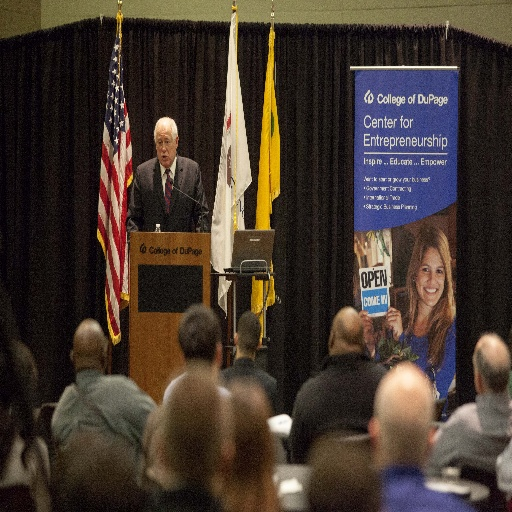hand: (382, 304, 403, 336), (357, 311, 376, 346)
